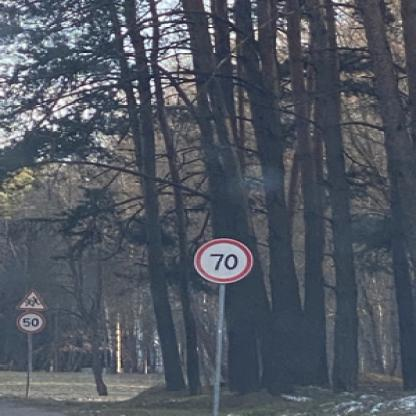speedlimit: (191, 238, 251, 282), (16, 311, 42, 331)
